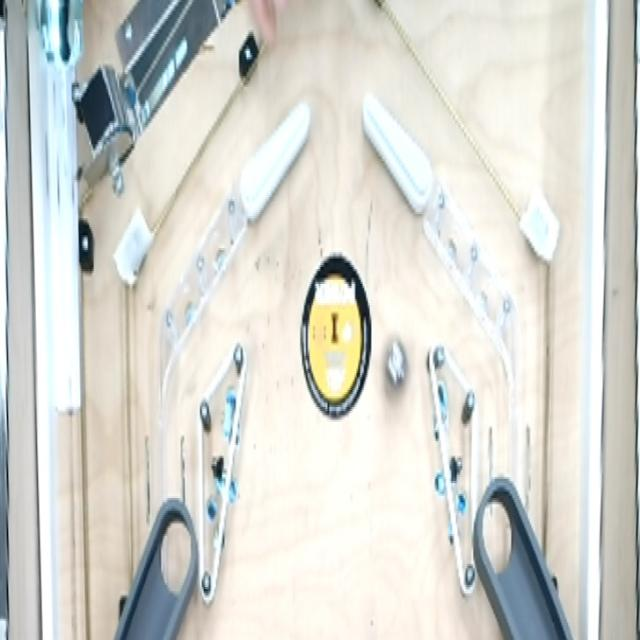ball: (381, 332, 410, 401)
flipper-left: (360, 86, 436, 220)
flipper-right: (235, 97, 315, 225)
